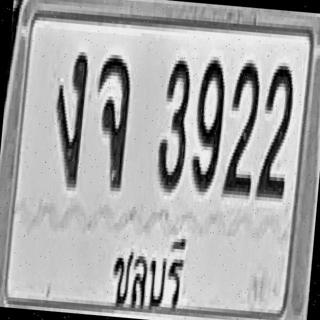A07: (49, 48, 89, 186)
A08: (89, 52, 133, 190)
N02: (222, 58, 262, 196), (256, 59, 295, 197)
N03: (154, 54, 193, 192)
N09: (189, 54, 227, 191)
P13: (102, 225, 190, 320)
